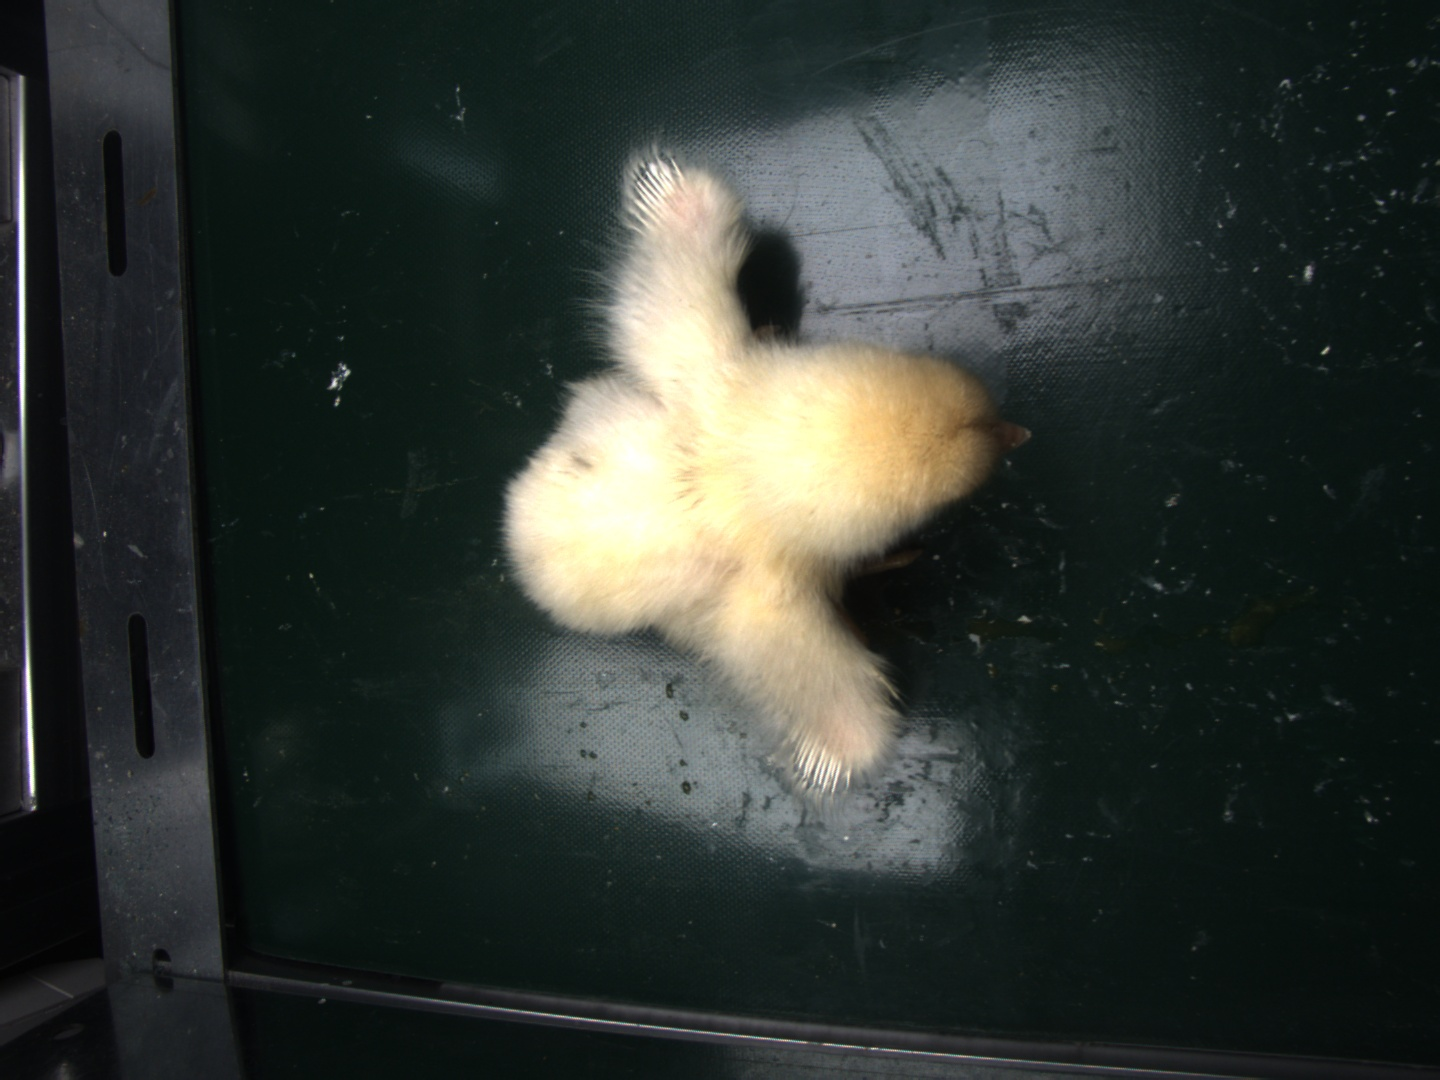male: (624, 151, 687, 229), (790, 728, 855, 801)
